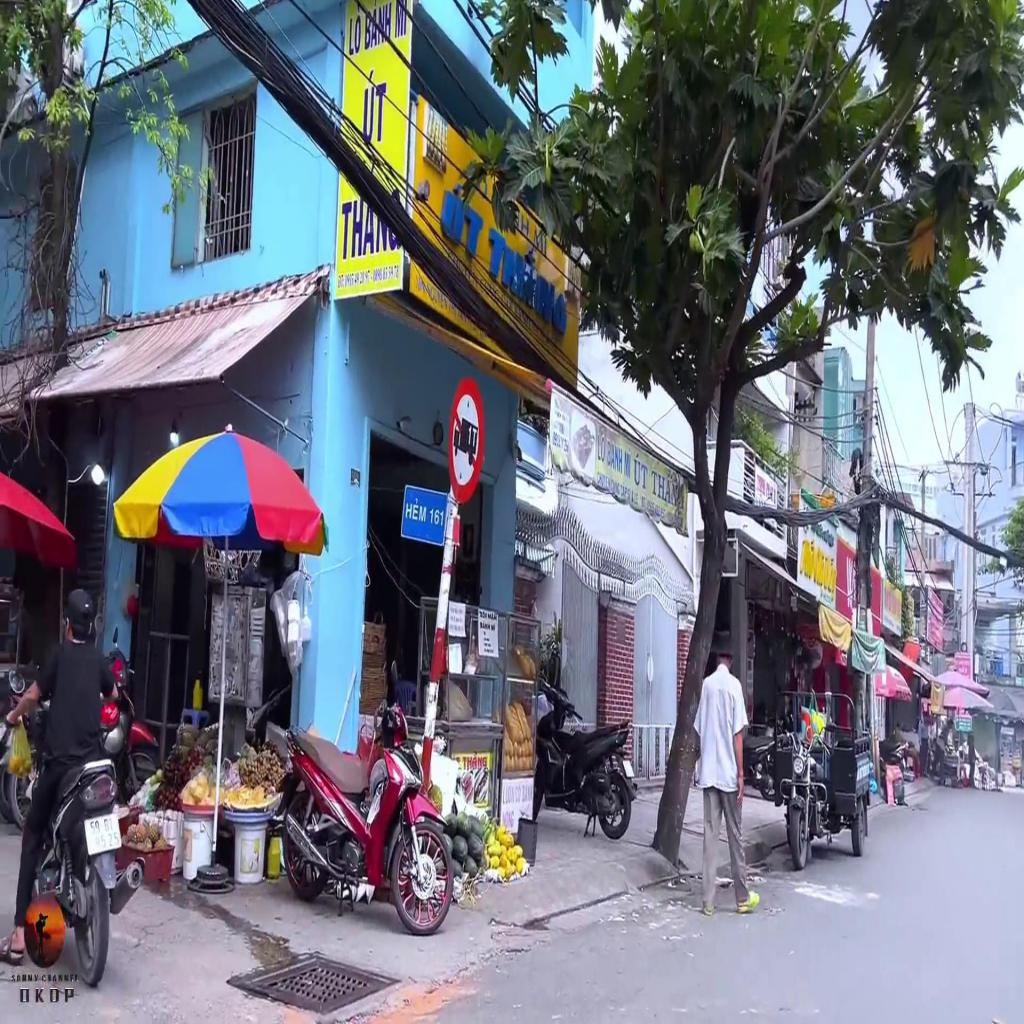cam_o_to_tai: (448, 378, 484, 504)
